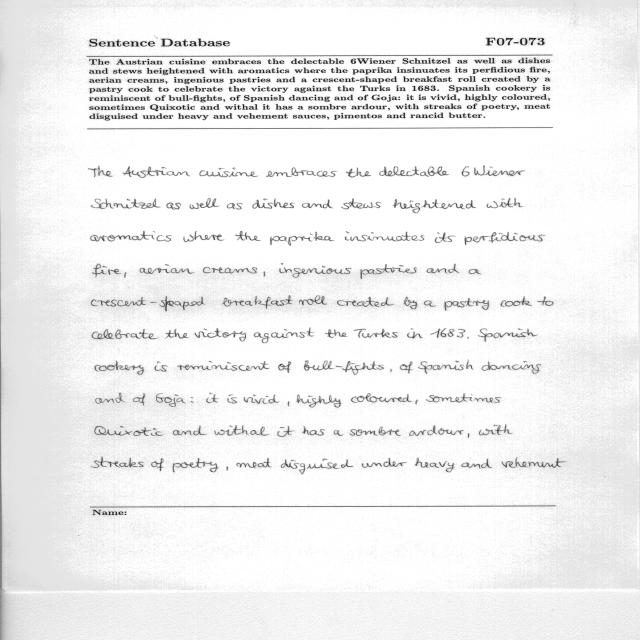word: (91, 296, 205, 311), (278, 360, 384, 375), (393, 199, 476, 213), (279, 263, 352, 278), (281, 459, 353, 474), (465, 232, 546, 245), (222, 295, 293, 309), (254, 328, 314, 343), (270, 232, 334, 246), (91, 231, 172, 242), (361, 264, 417, 279), (478, 328, 537, 342), (123, 166, 190, 178), (345, 232, 424, 242), (379, 166, 449, 177), (482, 361, 541, 374), (92, 198, 161, 209), (418, 361, 473, 374), (461, 166, 525, 177), (502, 457, 566, 468), (266, 167, 336, 177), (95, 361, 144, 375), (95, 426, 163, 436), (195, 328, 247, 341), (426, 394, 501, 403), (92, 329, 158, 339), (173, 458, 219, 472), (351, 393, 412, 403), (409, 425, 464, 436), (215, 425, 269, 436), (178, 361, 237, 371), (444, 298, 489, 311), (297, 395, 342, 408), (91, 457, 144, 468), (337, 297, 393, 307), (415, 458, 455, 472), (140, 264, 194, 274), (199, 168, 258, 177), (350, 426, 401, 436), (252, 198, 294, 209), (183, 231, 224, 242), (362, 458, 407, 468), (341, 199, 381, 210), (156, 393, 186, 407), (354, 329, 398, 338), (93, 264, 121, 277), (479, 425, 512, 436), (487, 198, 523, 208), (430, 328, 465, 338), (244, 394, 279, 404), (237, 458, 272, 468), (501, 296, 532, 307), (190, 198, 220, 209), (96, 393, 126, 404), (173, 426, 206, 436), (203, 267, 257, 273), (462, 459, 493, 469), (239, 361, 269, 371), (427, 264, 459, 273), (299, 296, 327, 306), (302, 200, 333, 209), (89, 166, 113, 177), (235, 231, 261, 241), (346, 168, 371, 178), (166, 329, 189, 339), (435, 232, 455, 243), (302, 427, 325, 436), (325, 329, 347, 338), (277, 426, 294, 437), (403, 297, 418, 309), (537, 296, 554, 306), (151, 458, 164, 471), (407, 329, 423, 339), (400, 362, 412, 374), (133, 393, 145, 405), (155, 362, 168, 372), (206, 393, 218, 403), (166, 203, 181, 210), (227, 203, 243, 209), (227, 395, 237, 404), (424, 301, 436, 307), (469, 269, 481, 274), (334, 430, 344, 436), (191, 397, 194, 403), (124, 273, 126, 278), (416, 400, 418, 405), (468, 433, 470, 438), (226, 466, 228, 471), (390, 369, 392, 372), (264, 272, 265, 277), (288, 401, 289, 406), (467, 337, 469, 339)
